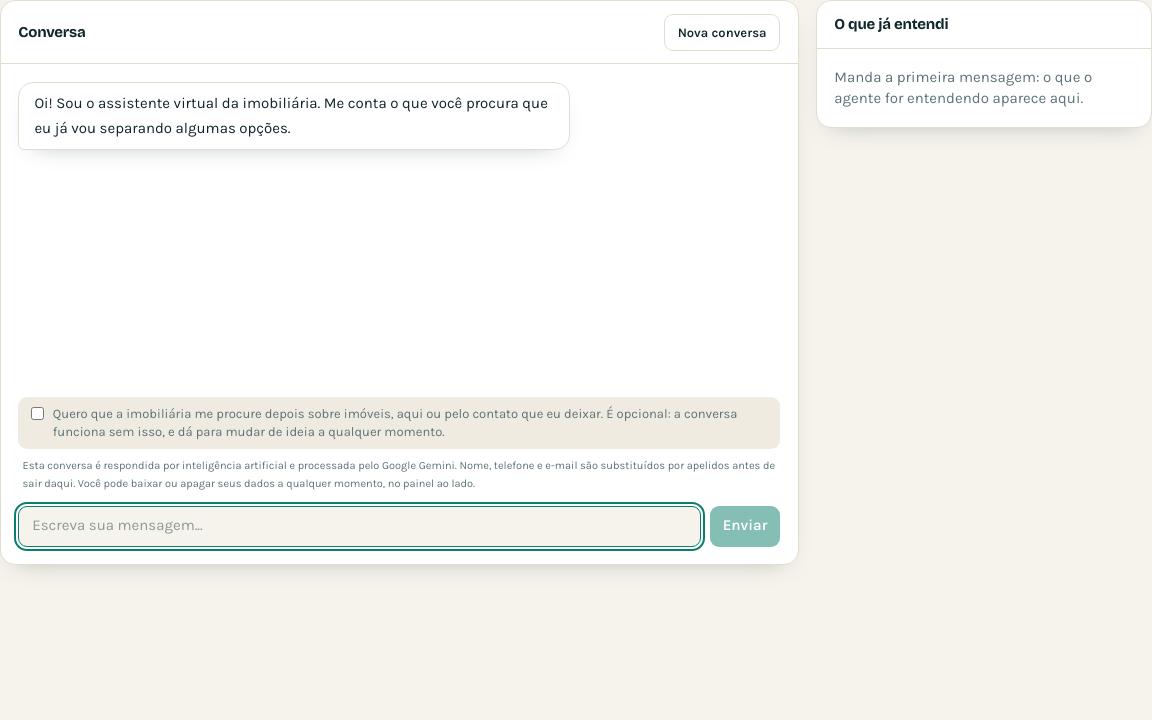
o que o payload do turno vira na tela › mostra a resposta do agente
Step 1. Type "oi" into the field with placeholder "Escreva sua mensagem..." → {"x": 360, "y": 526}, box [18,506,701,547]
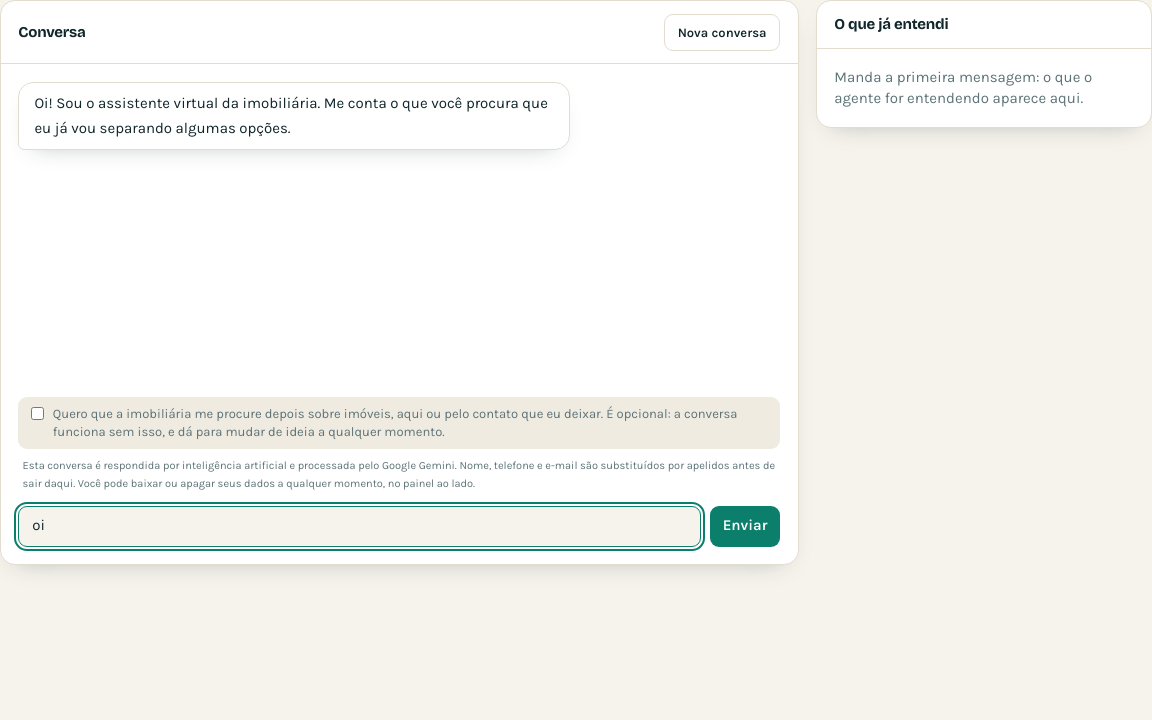
Step 2. Click the button "Enviar" → {"x": 745, "y": 526}, box [710,506,780,547]
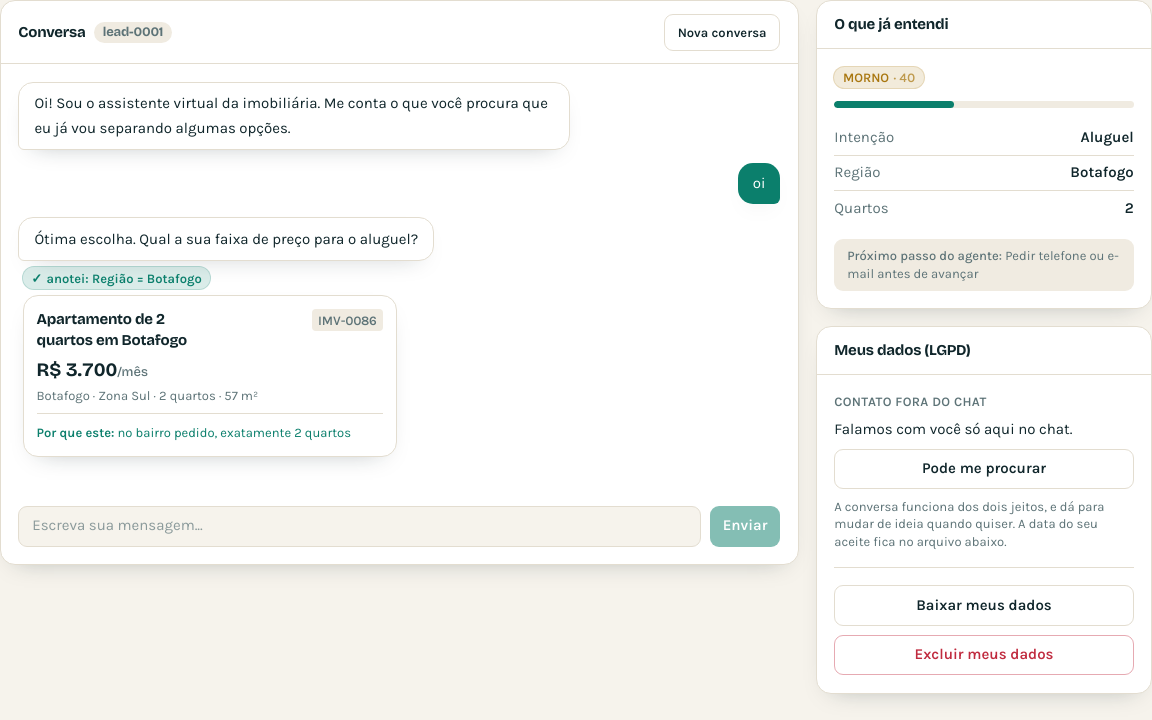
Expected: the text "Ótima escolha. Qual a sua faixa de preço para o aluguel?" is shown, [18,217,434,261]
